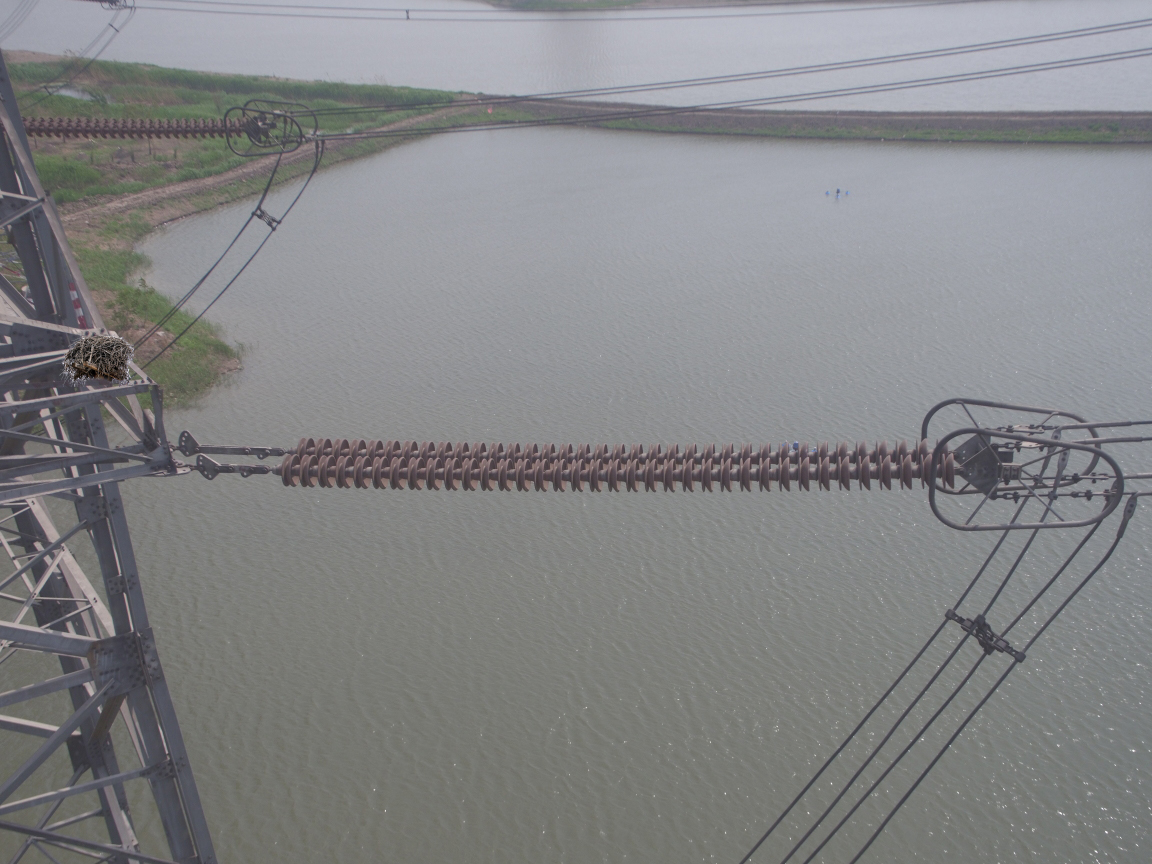nest: (55, 329, 141, 390)
